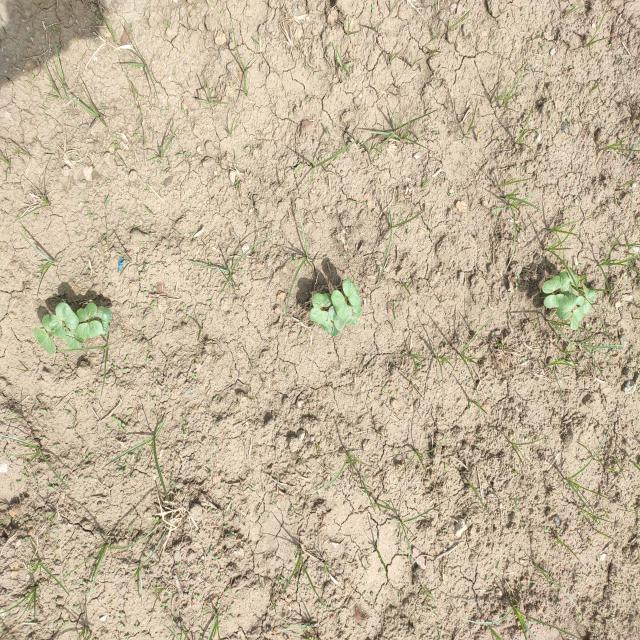seedling_s2: (55, 302, 79, 329), (34, 327, 56, 354), (342, 278, 362, 306), (557, 293, 576, 320), (77, 320, 103, 339), (331, 290, 348, 319), (309, 307, 331, 326), (49, 314, 66, 338), (328, 306, 345, 330), (76, 303, 97, 322), (542, 275, 563, 294), (92, 306, 113, 323), (570, 306, 584, 331), (42, 314, 57, 337), (63, 329, 80, 349), (544, 294, 568, 308), (559, 271, 573, 294), (312, 293, 332, 309), (321, 321, 339, 337), (576, 295, 591, 314), (582, 283, 596, 303), (345, 305, 358, 326), (70, 327, 84, 343), (351, 302, 363, 319), (101, 319, 109, 335)
